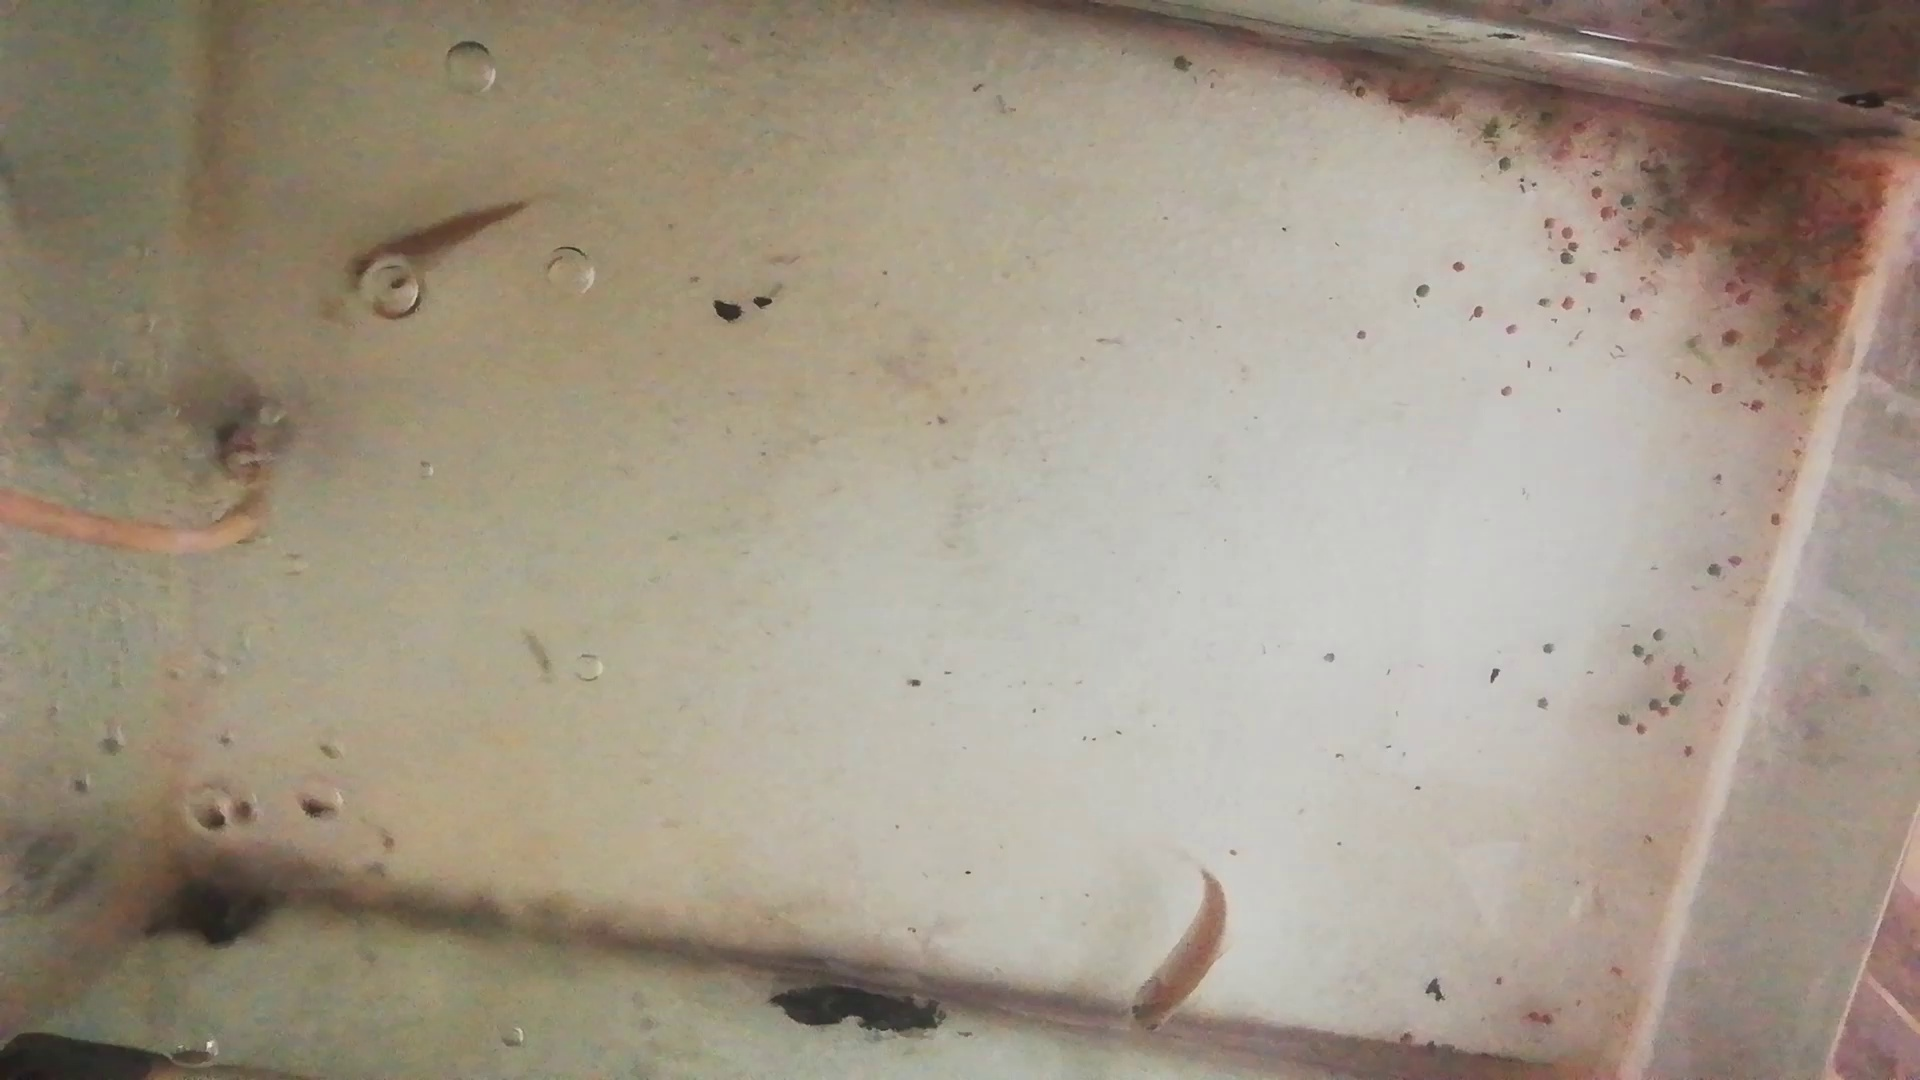fish: (1127, 870, 1226, 1040), (345, 204, 535, 286)
